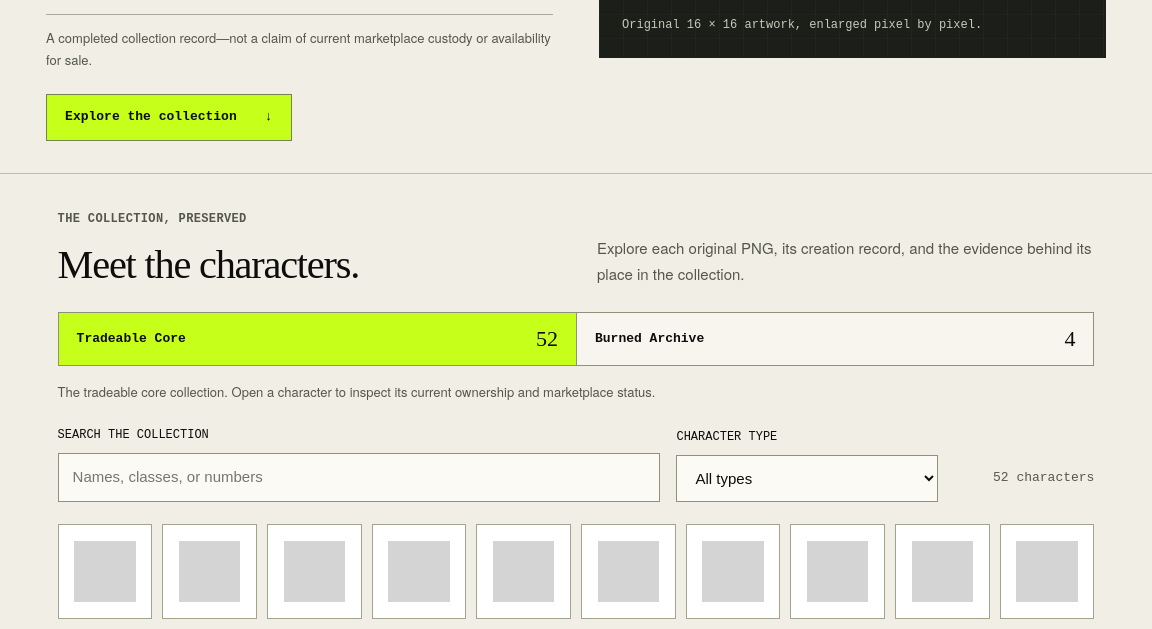
Test: requested collection labels do not fabricate fresh burn or owner verification
(page scrolled)
Click the button "Burned Archive 4" at (650, 339), box [576,314,1093,366]
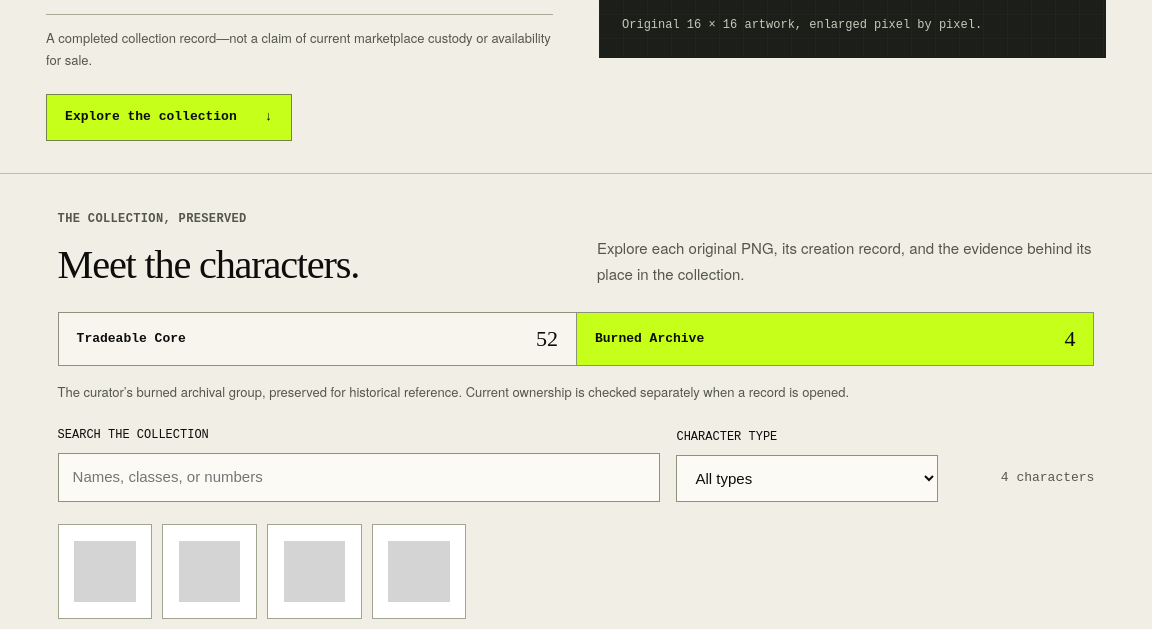
Click the button named "Open Character 53, EBURP 0053" at (210, 571), box [162,524,257,619]
(page scrolled)
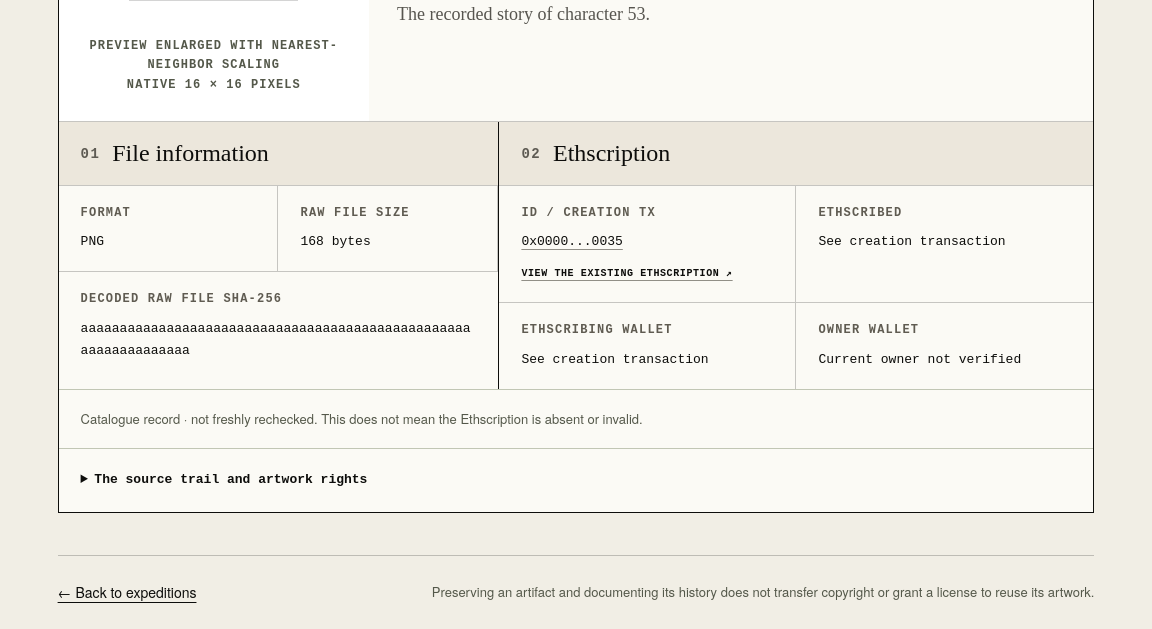
Expected: the text "Current owner not verified" is shown, [818,352,1021,367]
